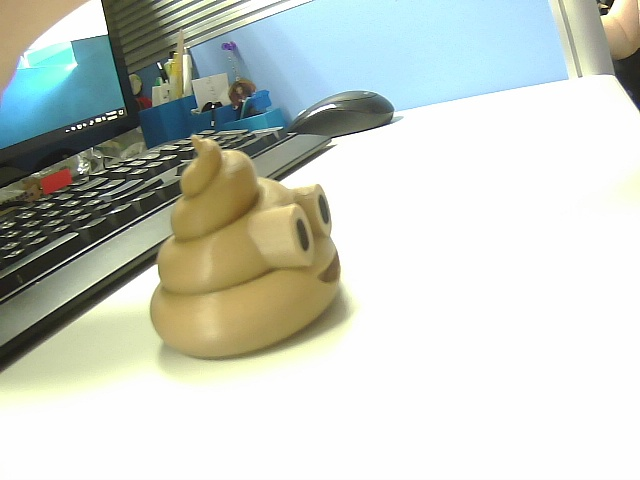shit: (142, 134, 366, 361)
